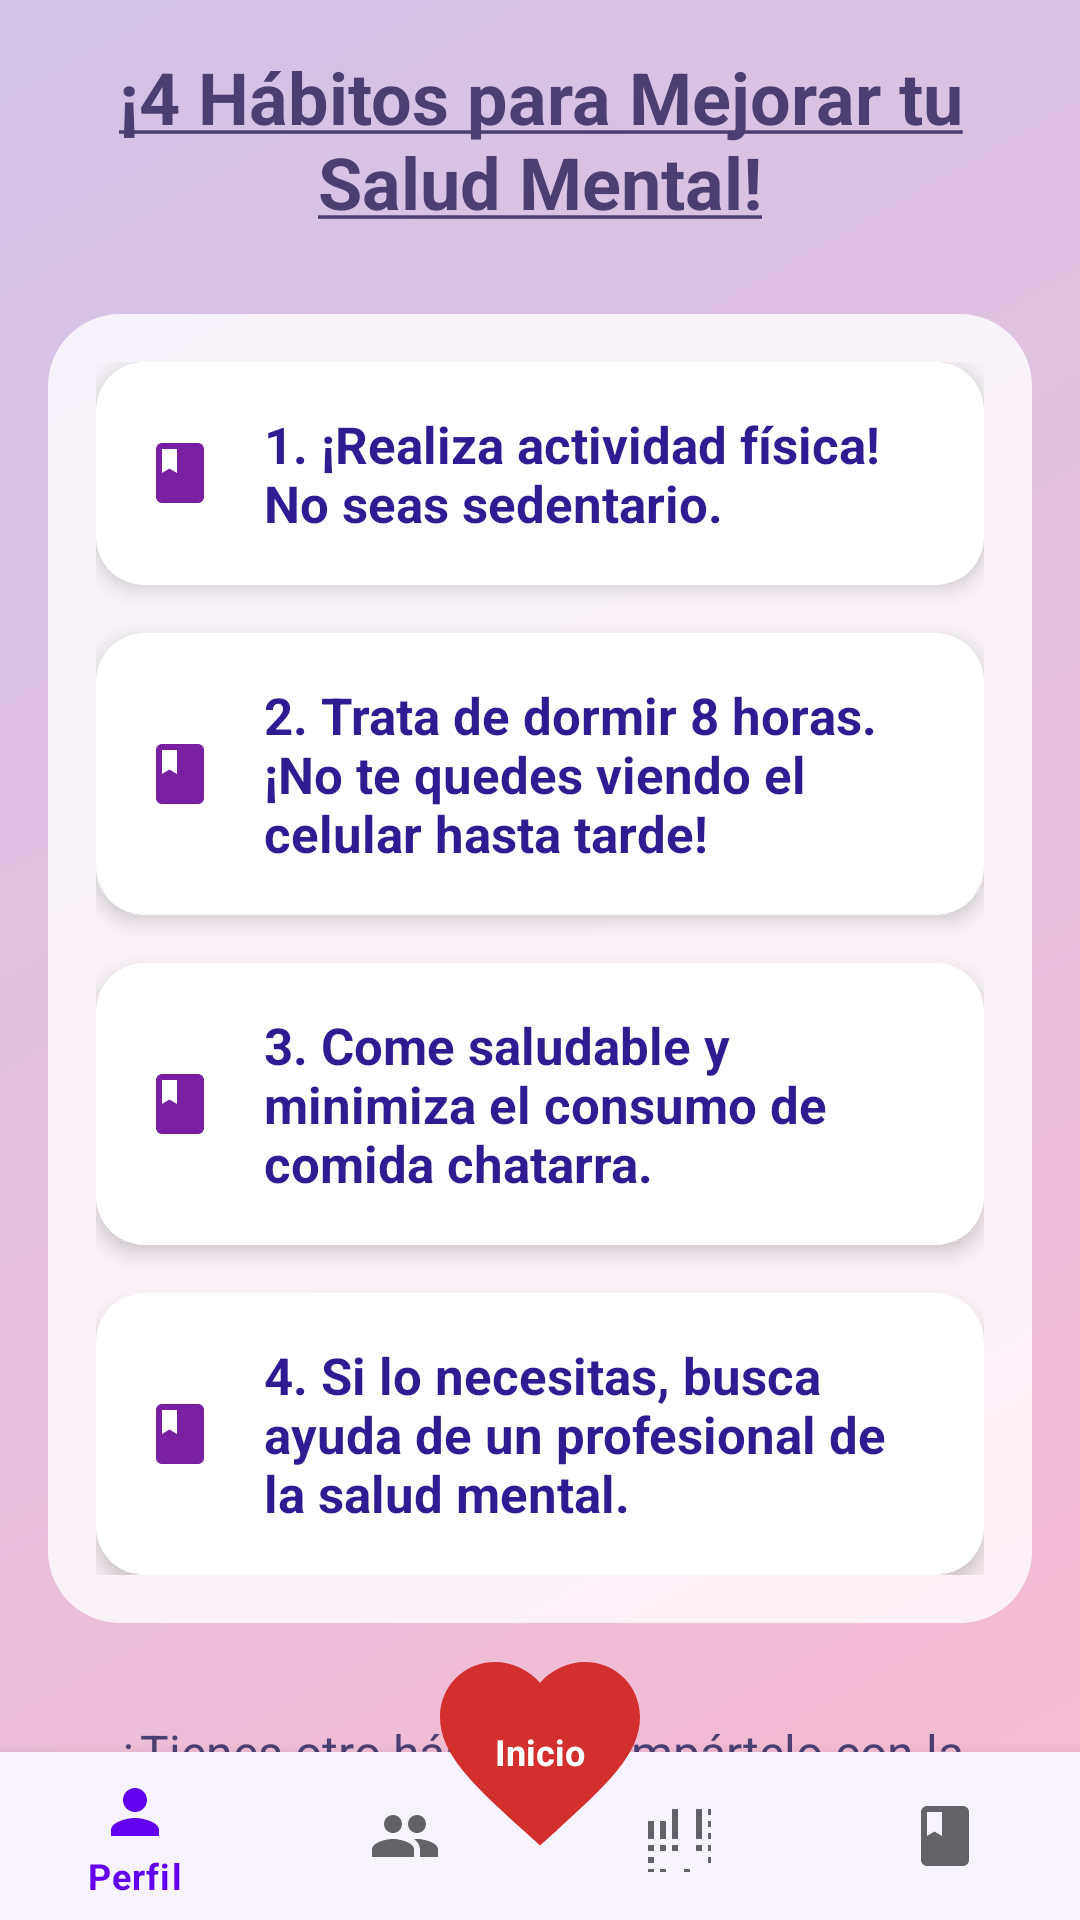

Icon click points for this 1080 x 1920 phone screenshot, format (x,y):
corazon shape: (540,1752)
